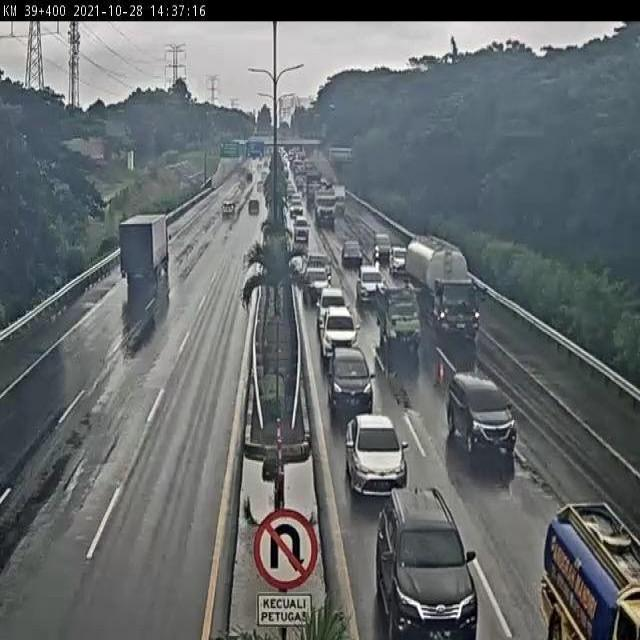big truck: (405, 235, 482, 341)
car: (372, 484, 479, 640), (343, 409, 411, 496), (446, 373, 517, 456), (371, 276, 419, 349), (327, 343, 375, 412), (318, 304, 362, 357), (351, 260, 386, 301), (315, 283, 348, 321), (304, 255, 332, 297), (340, 237, 364, 267), (389, 243, 407, 273), (373, 232, 390, 259), (293, 215, 309, 240)
small truck: (543, 502, 640, 640), (120, 216, 172, 283)
